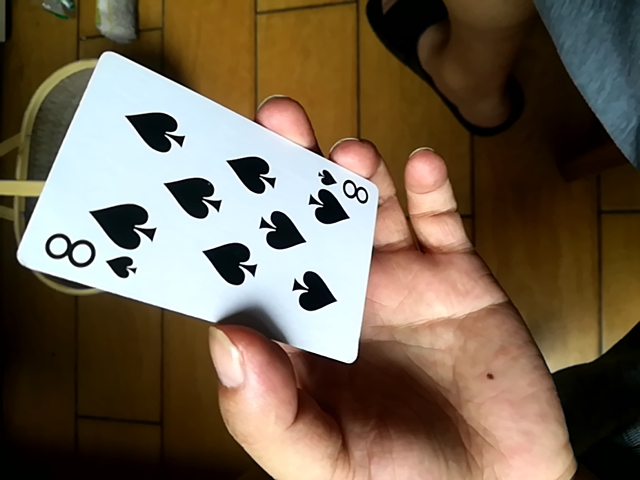ht 8: (22, 46, 381, 371)
